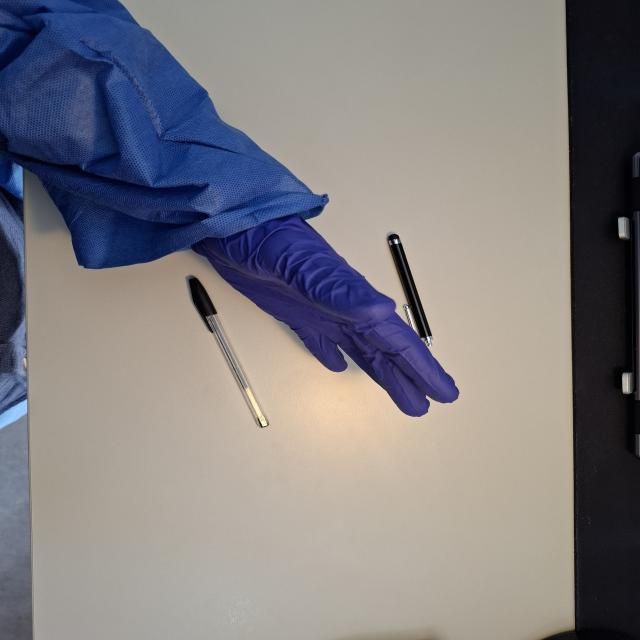glove_on: (189, 198, 464, 422)
